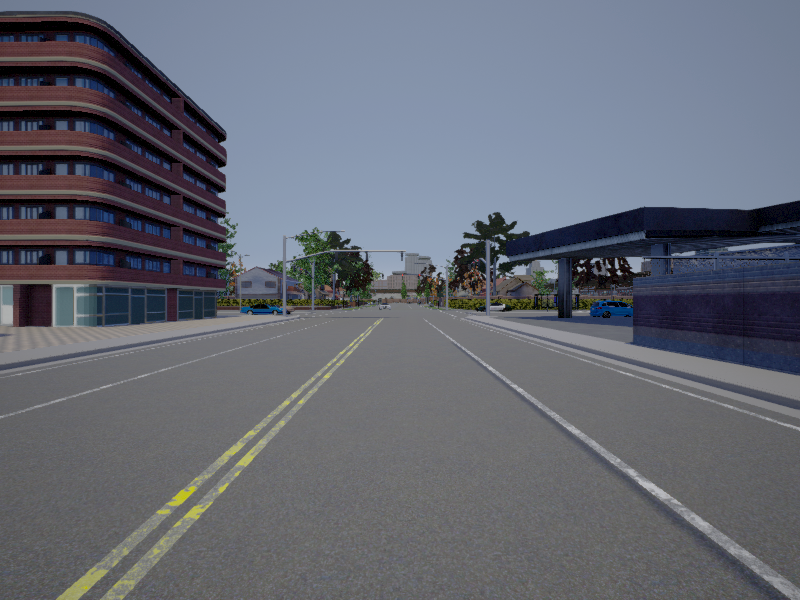benign: (590, 299, 635, 319), (239, 300, 289, 316), (477, 301, 514, 314), (379, 302, 391, 310)
